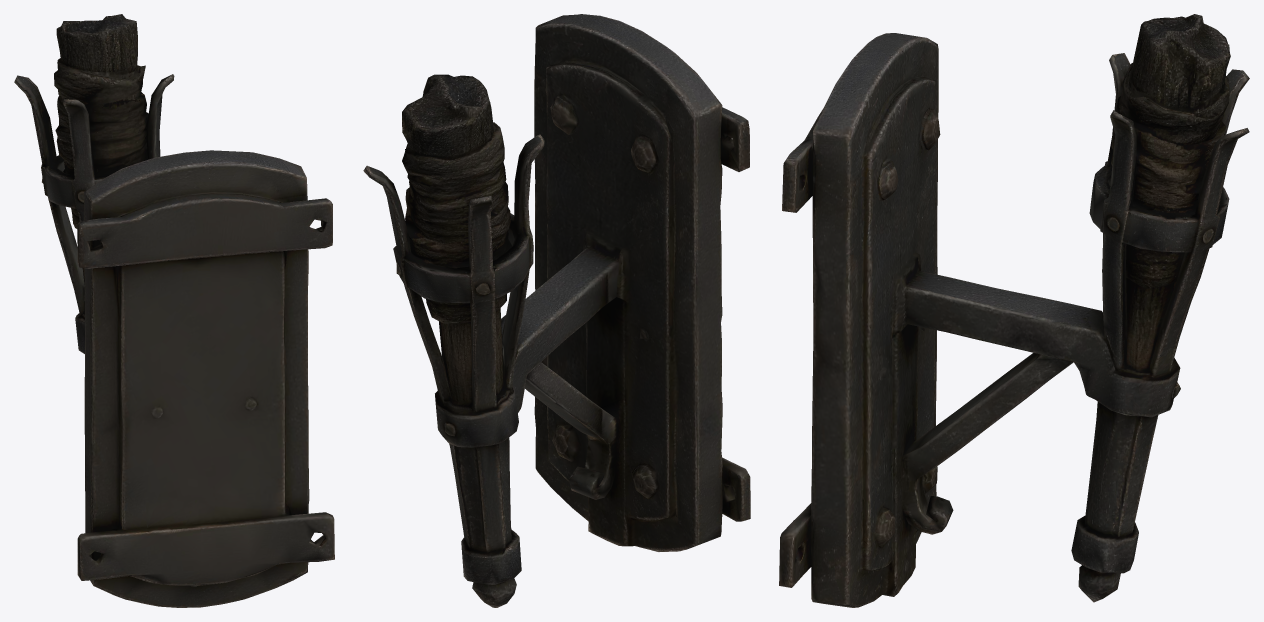
The model's file is wall-torch-sconce.glb.
The picture shows the model from 3 angles, left to right: view 1: azimuth 30°, elevation 25°; view 2: azimuth 150°, elevation 25°; view 3: azimuth 270°, elevation 25°; orthographic projection. The views are drawn at different scales.
Visible parts, largest first — view 1: tripo_node_4a0c1510-f503-41da-a78d-9bc39fe06d06; view 2: tripo_node_4a0c1510-f503-41da-a78d-9bc39fe06d06; view 3: tripo_node_4a0c1510-f503-41da-a78d-9bc39fe06d06.
Boxes of the visible parts, x1,y1,x2,y2 form: tripo_node_4a0c1510-f503-41da-a78d-9bc39fe06d06: (14,14,334,607); tripo_node_4a0c1510-f503-41da-a78d-9bc39fe06d06: (363,14,750,607); tripo_node_4a0c1510-f503-41da-a78d-9bc39fe06d06: (779,14,1249,607).
Size of the model in its own units: 0.4573 by 1 by 0.7311.
Materials: 1 (1 with a texture image).
